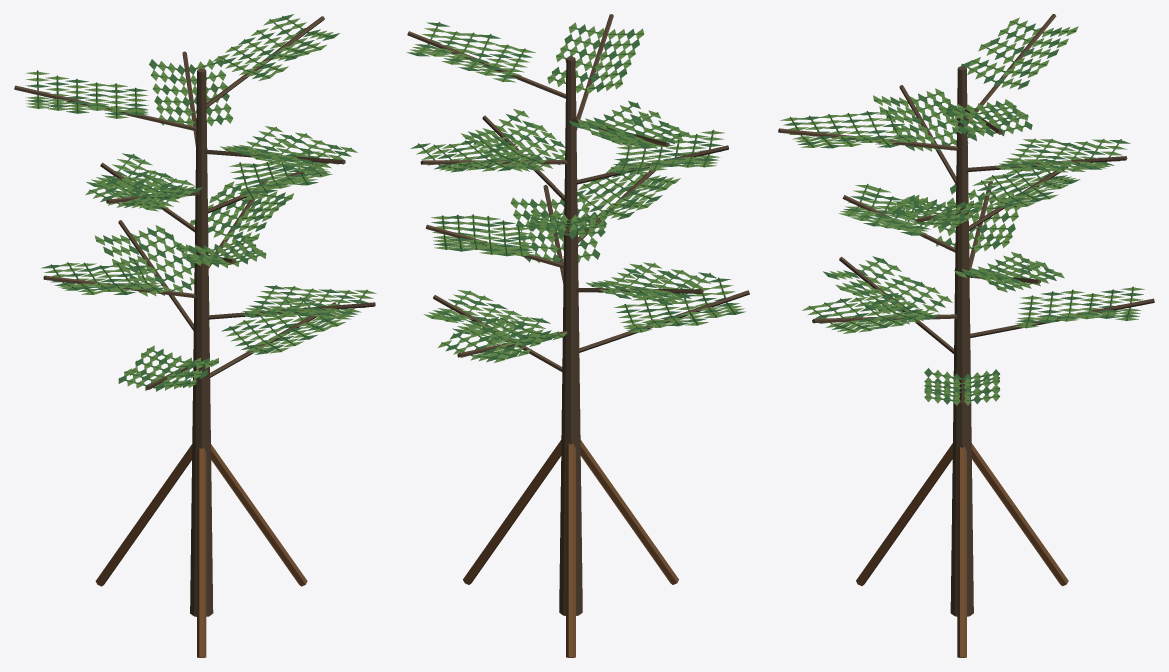
Rendered from tree_feathered_supported.glb.
The picture shows the model from 3 angles, left to right: view 1: azimuth 30°, elevation 25°; view 2: azimuth 150°, elevation 25°; view 3: azimuth 270°, elevation 25°; orthographic projection. The views are drawn at different scales.
Parts seen in each view (by area): view 1: tree_feathered_supported; view 2: tree_feathered_supported; view 3: tree_feathered_supported.
Part boxes in pixels (x1,y1,x2,y2): tree_feathered_supported: (14,14,376,657); tree_feathered_supported: (406,14,749,657); tree_feathered_supported: (778,14,1154,657).
Bounding box in the file's own units: 3.12 × 5.67 × 3.51.
